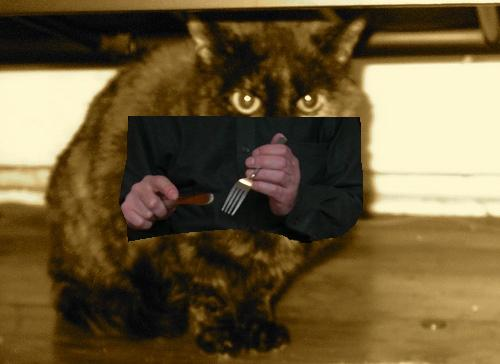tampered: (120, 117, 363, 243)
